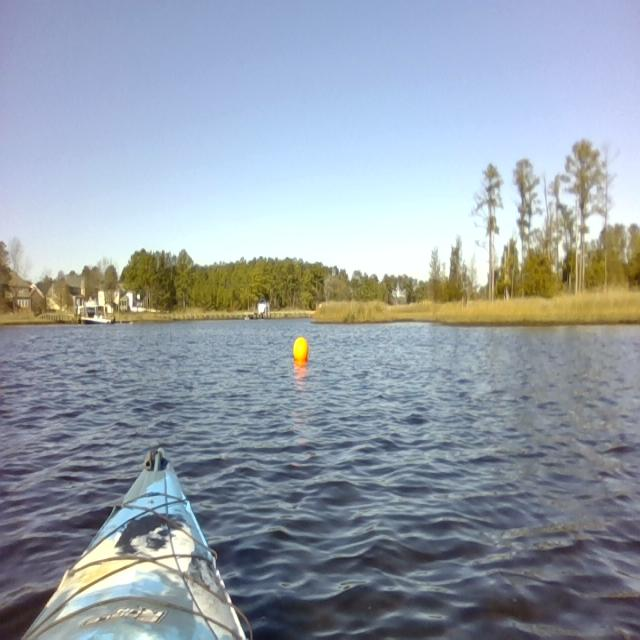Buoy: (286, 334, 316, 370)
